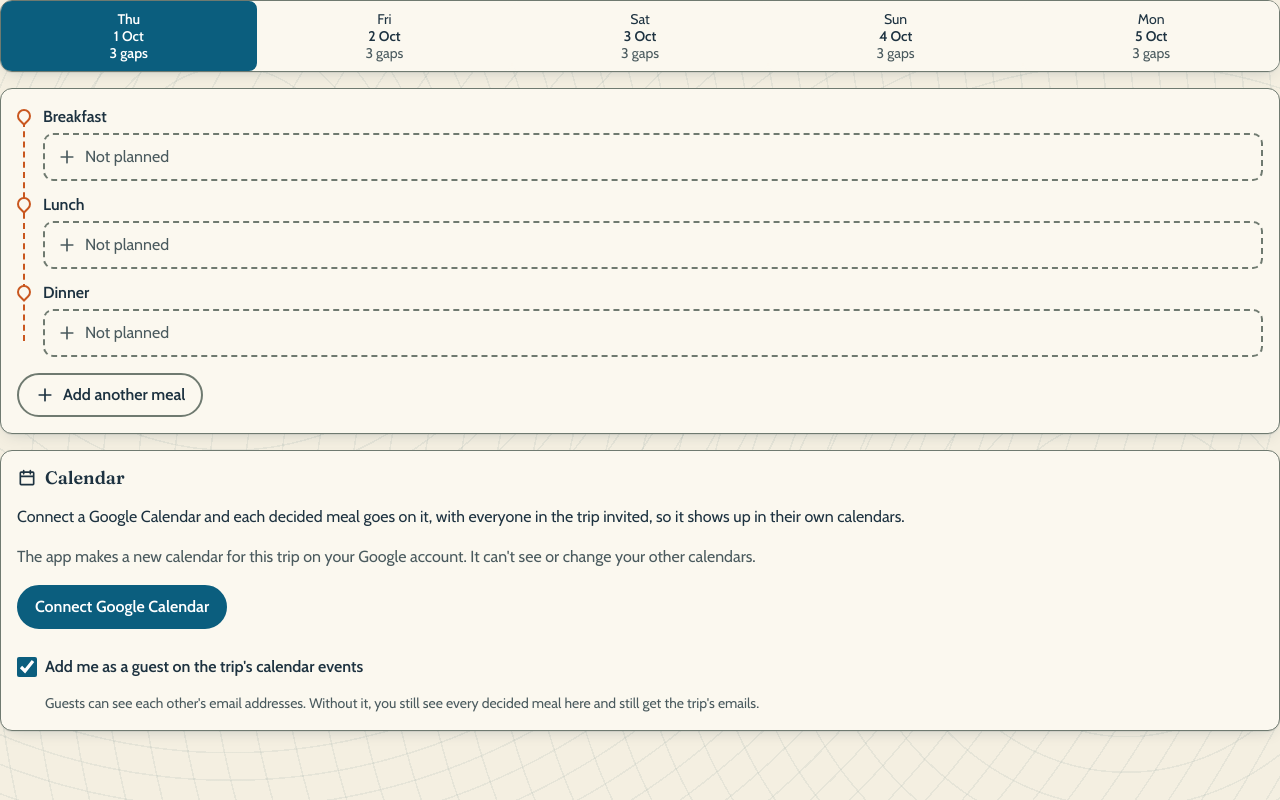
Test case: adding meals › a breakfast, lunch or dinner not planned yet can be added
This screenshot has width=1280, height=800.
Step 1. Click the button "Lunch Not planned" → (653, 231), box [43,193,1263,269]
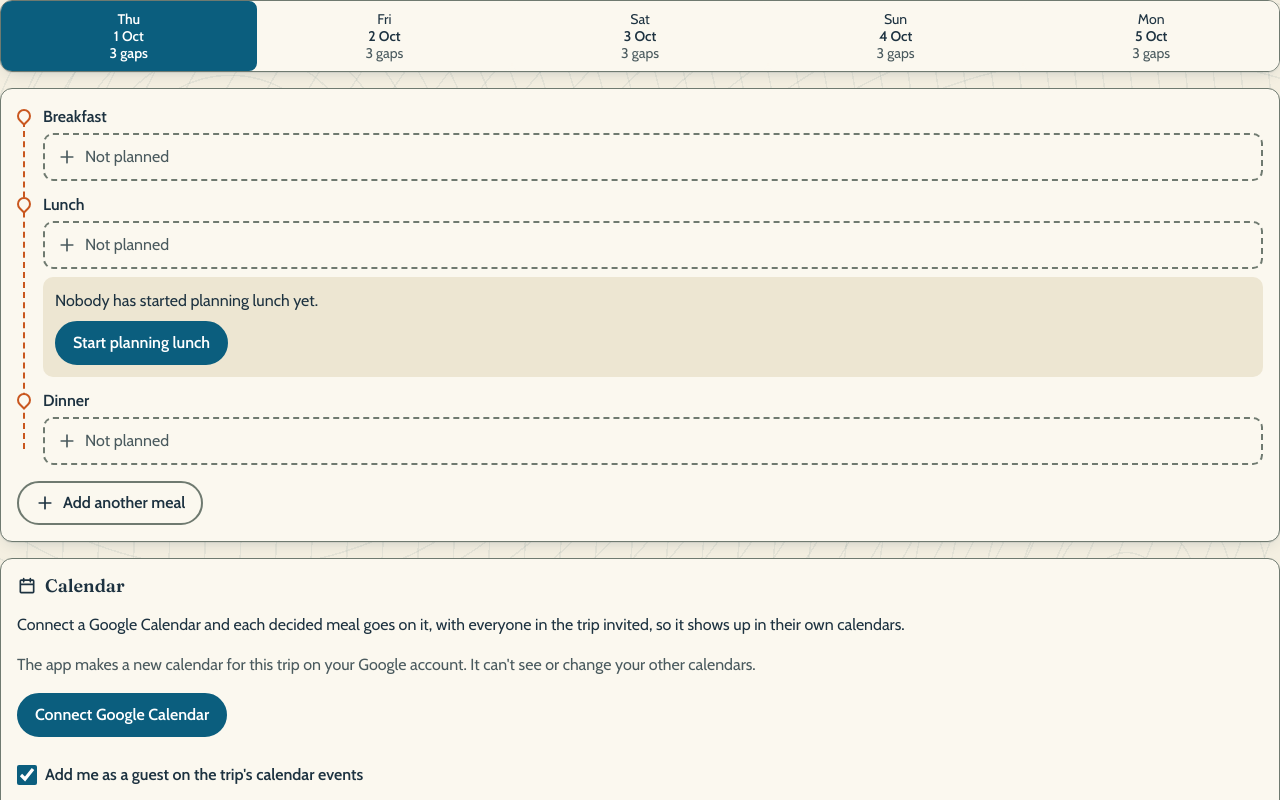
Step 2. Click the button "Start planning lunch" → (142, 343), box [55,321,228,365]
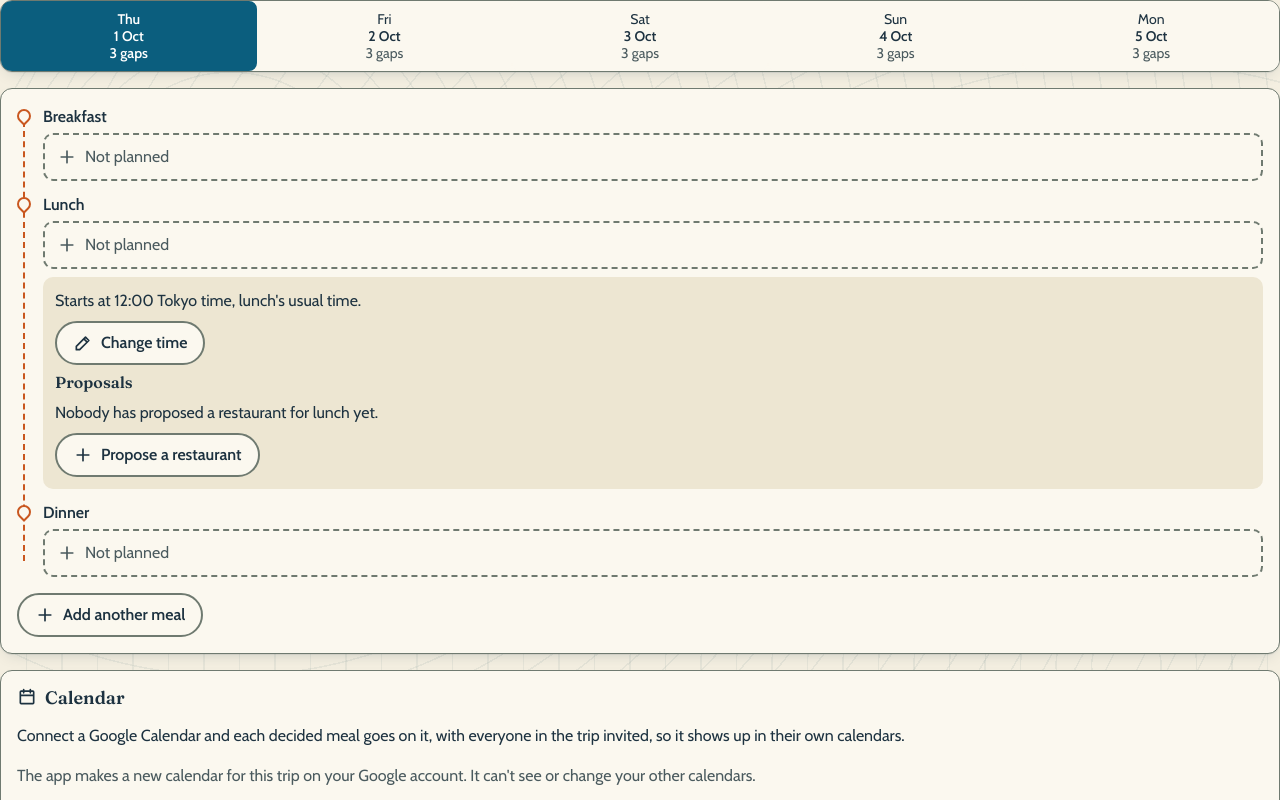
Check: the text "Nobody has proposed a restaurant for lunch yet." is shown, box [55,403,378,422]
